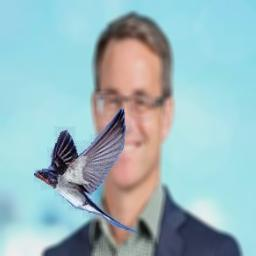Swallow: (34, 108, 140, 233)
